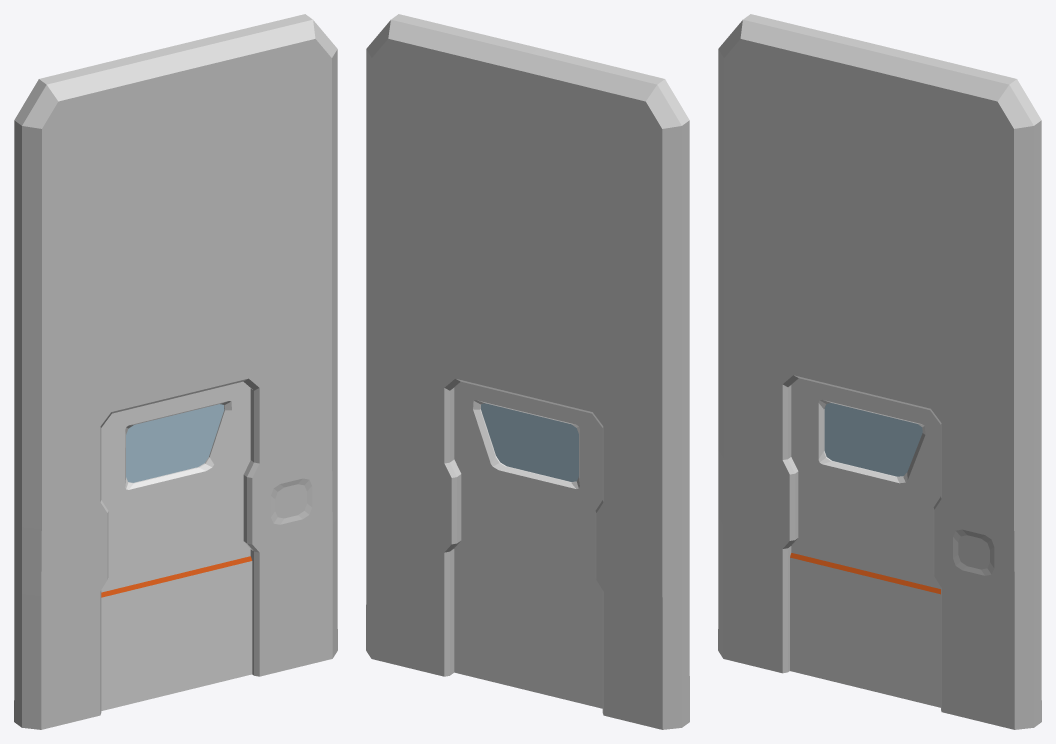
The model's file is DOOR_TALL.fbx.
3 renders of one model, left to right at view 1: azimuth 30°, elevation 25°; view 2: azimuth 150°, elevation 25°; view 3: azimuth 330°, elevation 25°, orthographic.
Parts seen in each view (by area): view 1: DOORWALL_TALL, DOOR_CLOSED; view 2: DOORWALL_TALL, DOOR_CLOSED; view 3: DOORWALL_TALL, DOOR_CLOSED.
Part boxes in pixels (x1=…): DOORWALL_TALL: x1=14, y1=14, x2=337, y2=729; DOOR_CLOSED: x1=101, y1=381, x2=252, y2=710; DOORWALL_TALL: x1=366, y1=14, x2=689, y2=729; DOOR_CLOSED: x1=454, y1=381, x2=602, y2=708; DOORWALL_TALL: x1=718, y1=14, x2=1041, y2=729; DOOR_CLOSED: x1=790, y1=378, x2=940, y2=707.
Bounding box in the file's own units: 353 × 681 × 42.44.
